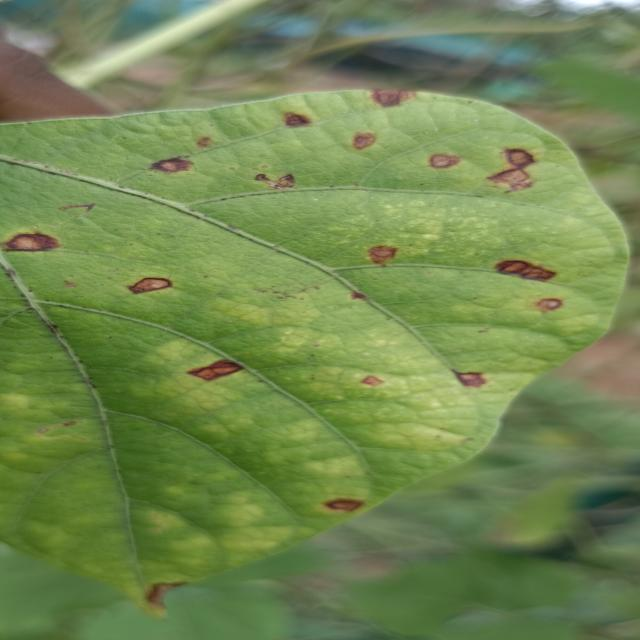Dolicos bean_cercospora leaf spot: (0, 87, 637, 618)
